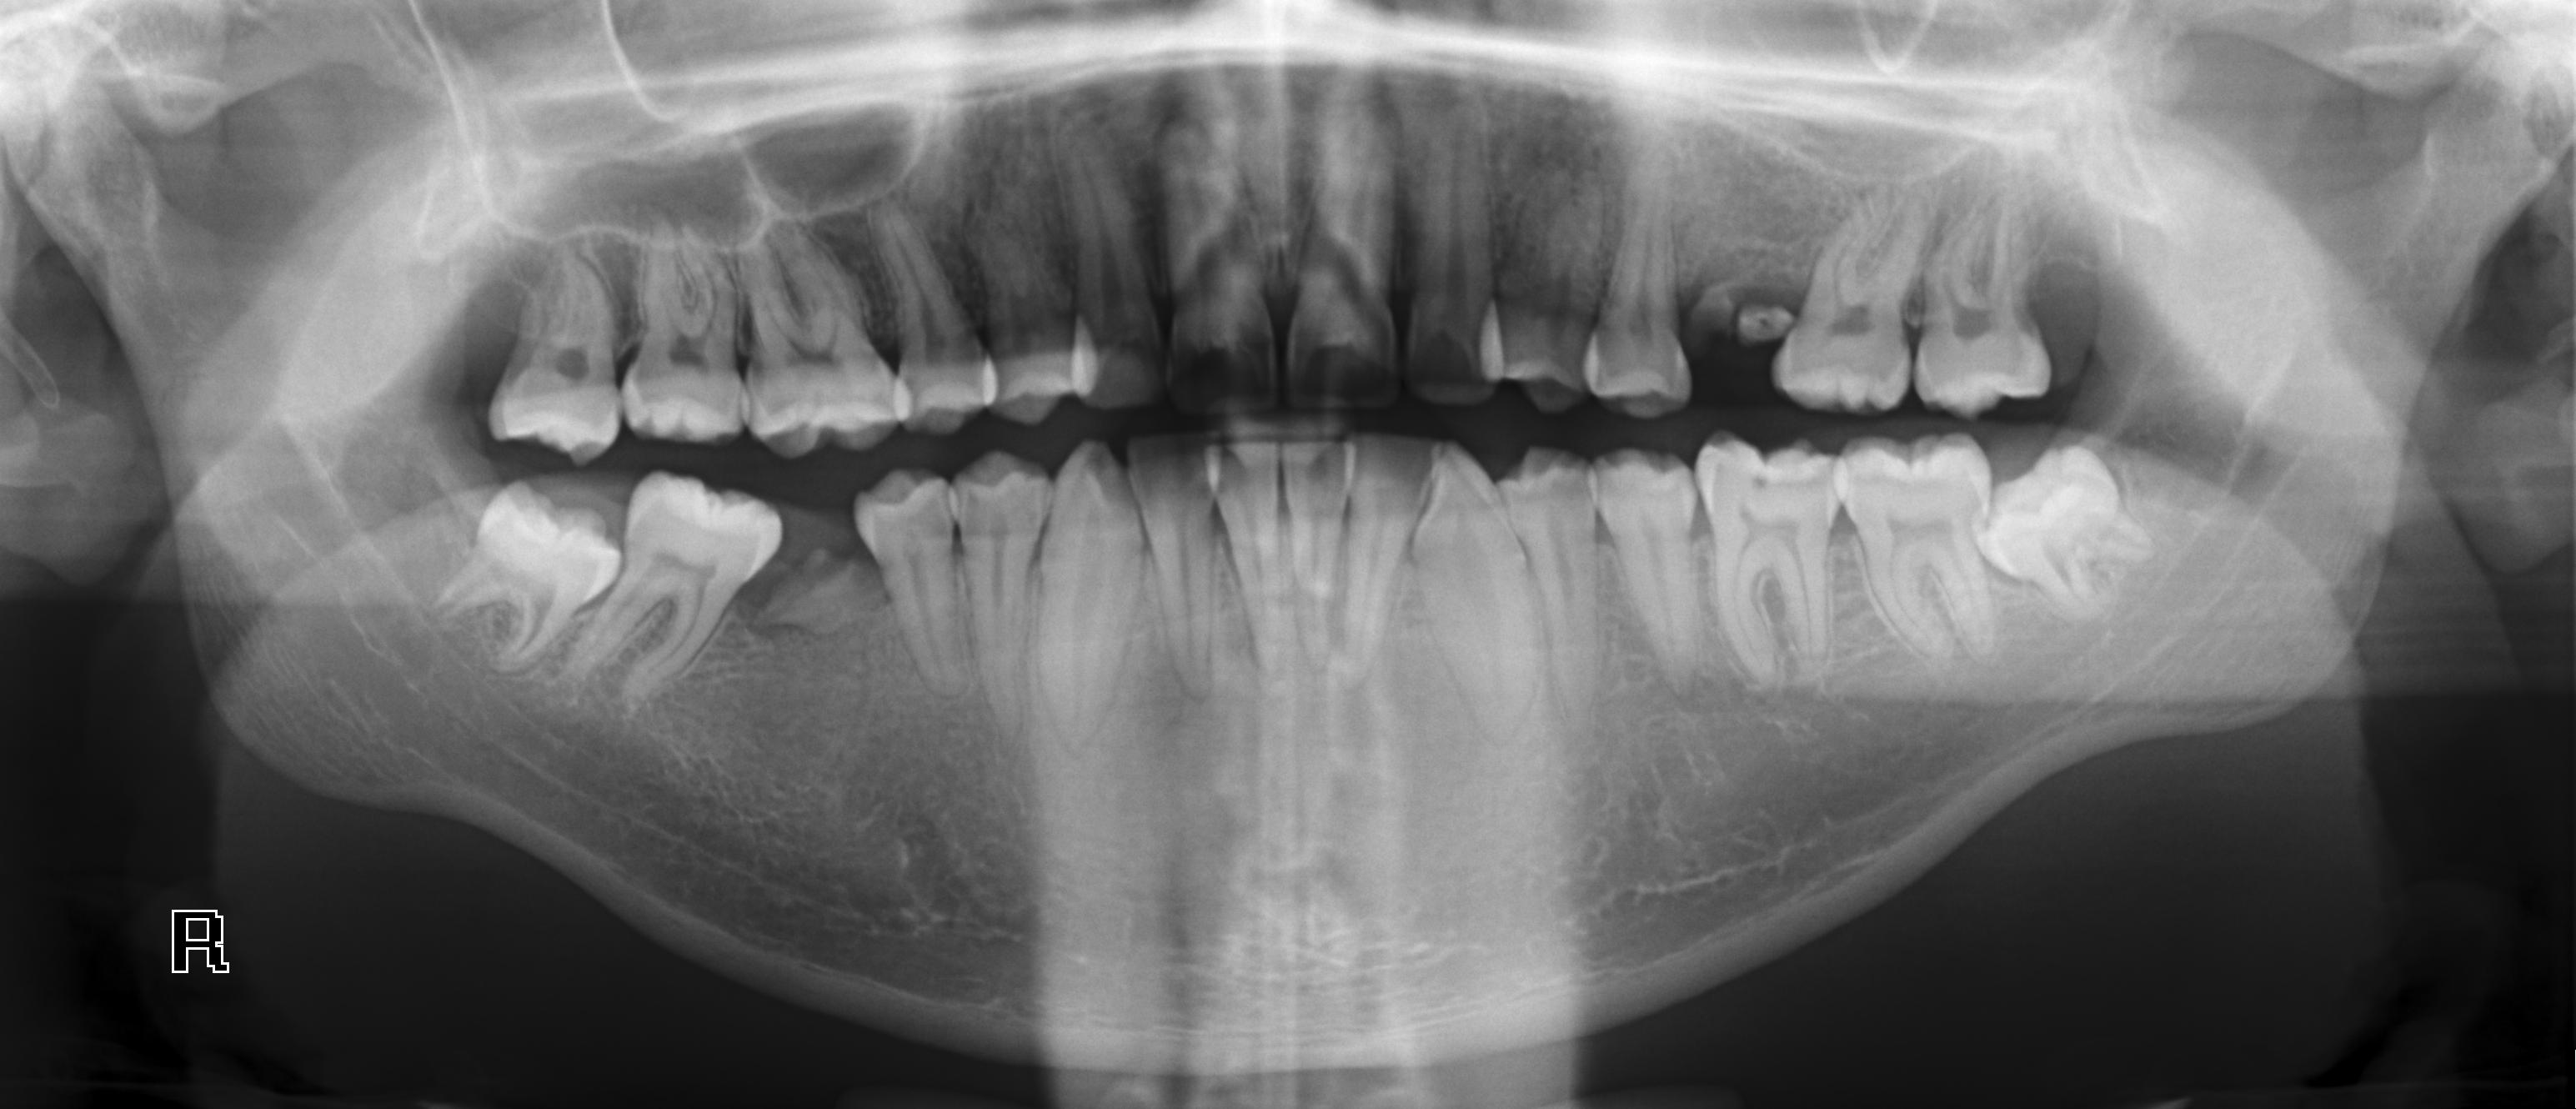Çürük Bölgesi: (1746, 460, 1782, 504)
